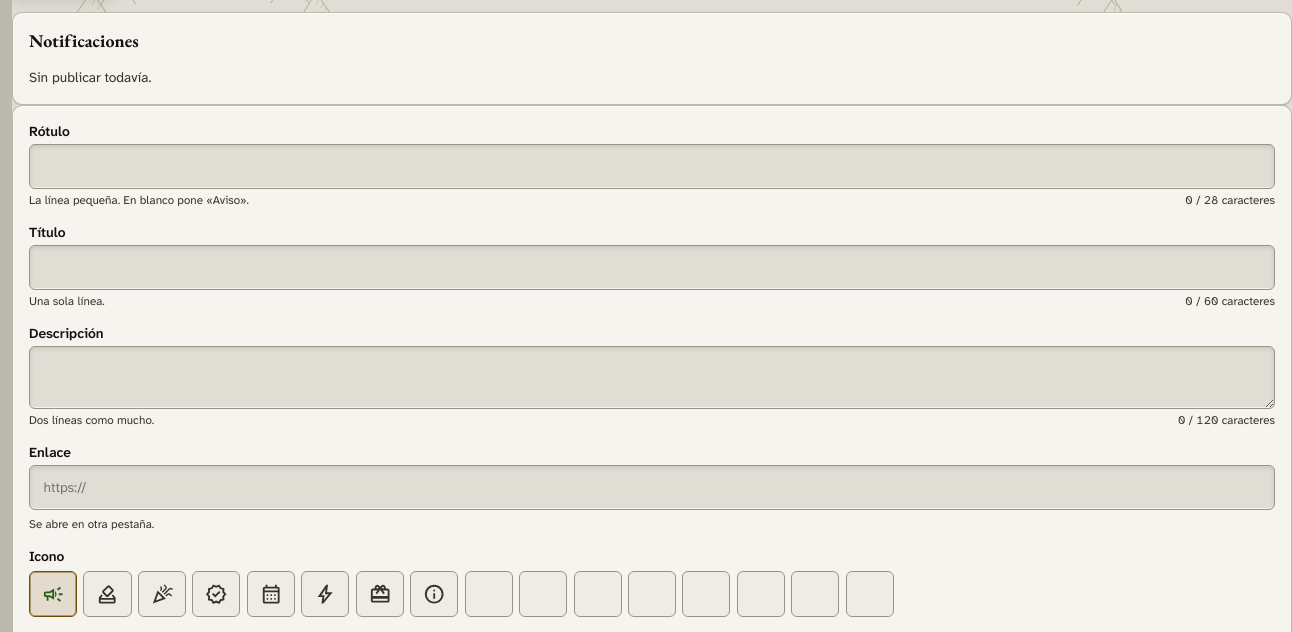
panel · aviso a los usuarios › no deja guardar sin título ni sin un enlace http(s)
Type "Hola" into the field labelled "Título Una sola línea. 0 / 60 caracteres". click: point(652, 267)
box: [29,245,1275,290]
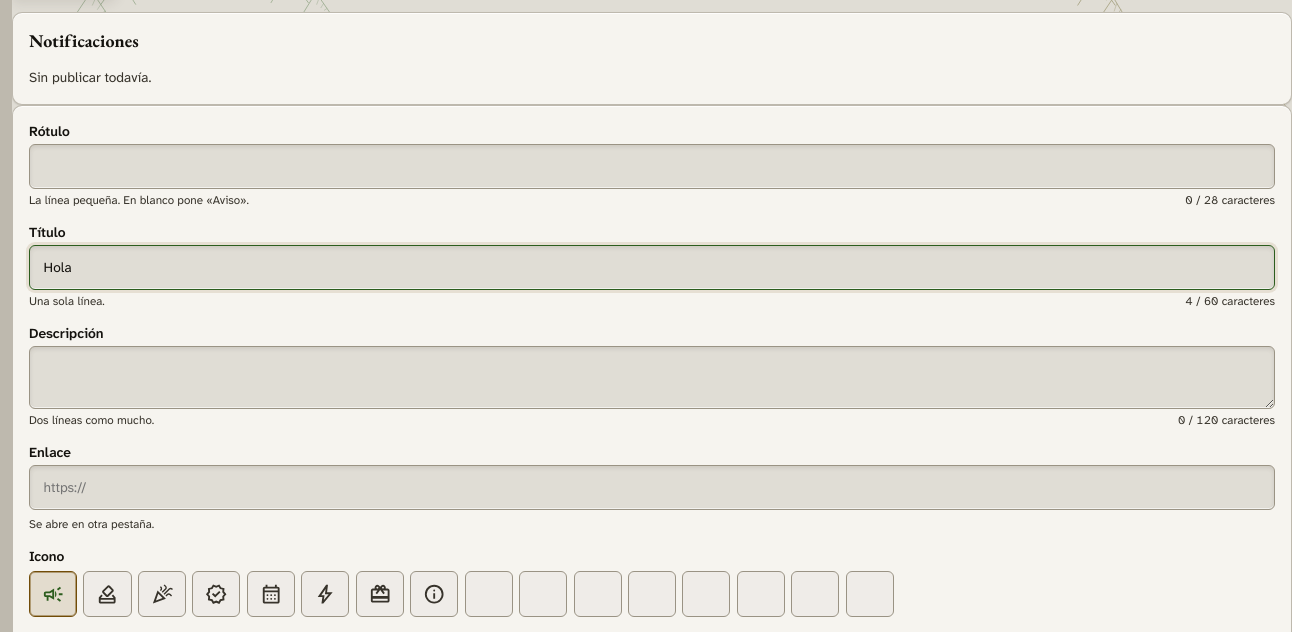
Type "javascript:alert(1)" into the field labelled "Enlace Se abre en otra pestaña.". click: point(652, 487)
box: [29,465,1275,510]
(page scrolled)
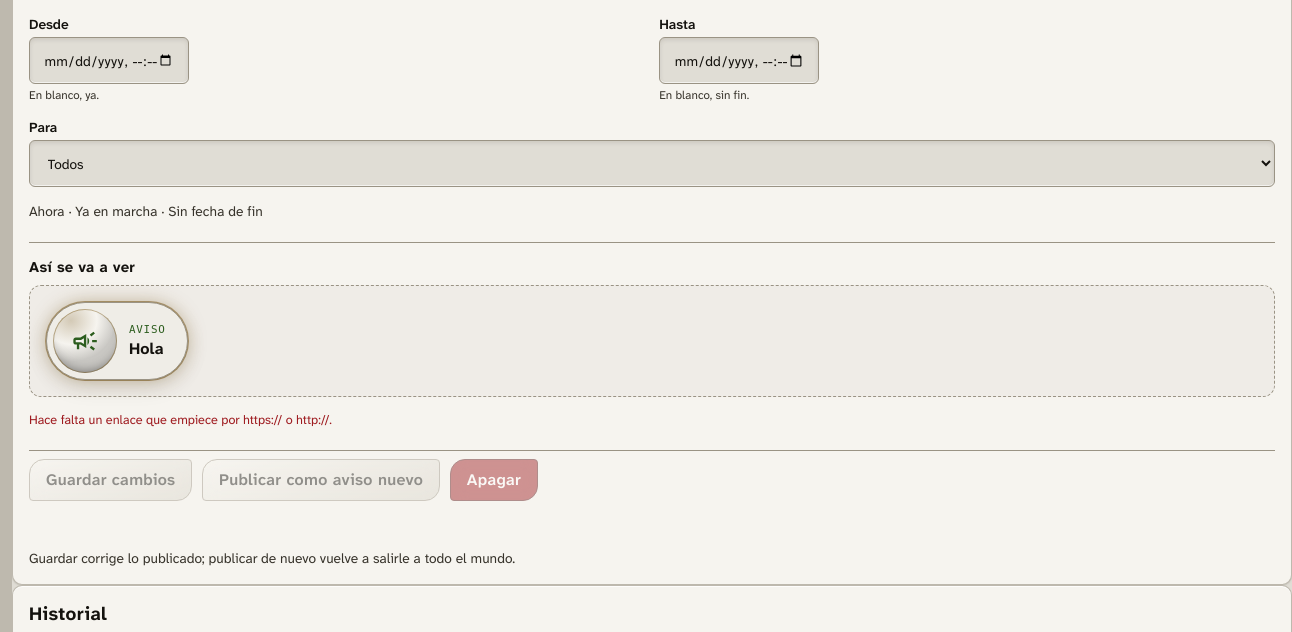
Expected: the button "Guardar cambios" is disabled, [29,459,192,501]
Now the text "Hace falta un enlace que empiece por https:// o http://." is shown, box [29,412,332,428]
